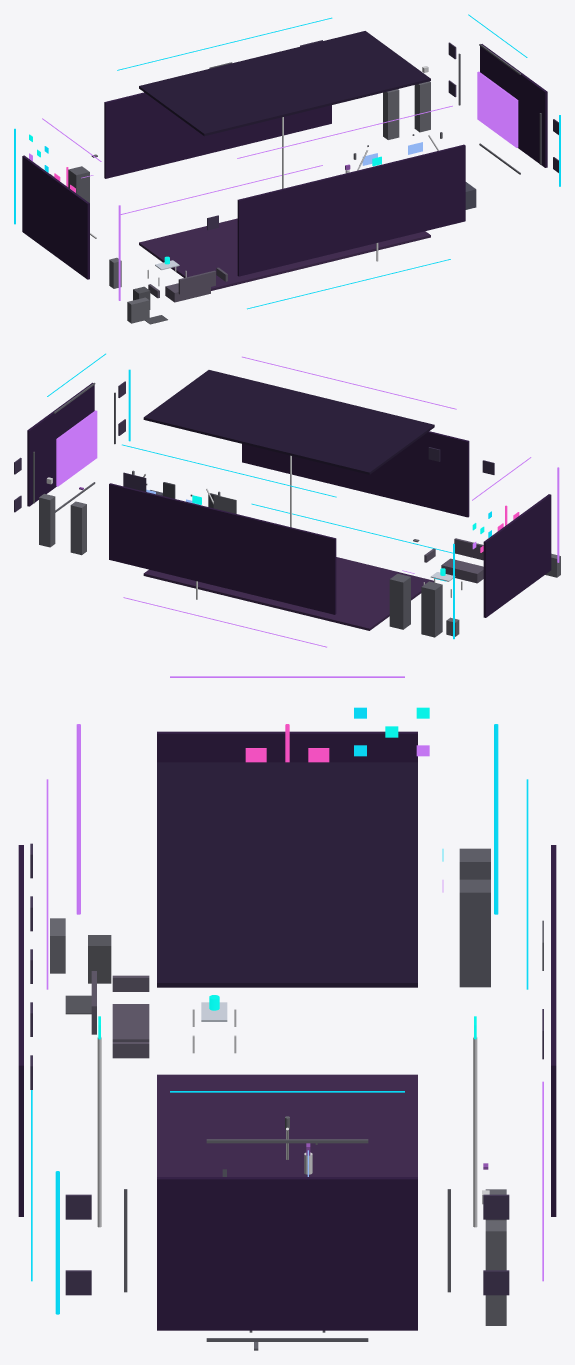
3 views of the same model, one above another, from view 1: azimuth 30°, elevation 25°; view 2: azimuth 150°, elevation 25°; view 3: azimuth 270°, elevation 25° (orthographic). The views are drawn at different scales.
Parts seen in each view (by area): view 1: Wall_South, Ceiling, Wall_North, Floor, Wall_West, Wall_East, LEDScreen, StorageShelf1, StorageShelf2, Sofa_Back, ServerRack2, ShoeRack (+1 smaller); view 2: Wall_North, Ceiling, Wall_South, Wall_West, Floor, Wall_East, LEDScreen, ServerRack2, ServerRack1, StorageShelf1, StorageShelf2, Sofa_Base (+1 smaller); view 3: Ceiling, Wall_East, Floor, Wall_West, ServerRack2, Wall_North, Wall_South, StorageShelf1, Sofa_Base, MiniFridge, ServerRack1, RGBTube1 (+5 smaller).
Part boxes in pixels (bbox=[...]): Wall_South: bbox=[237, 144, 465, 276]; Ceiling: bbox=[139, 31, 430, 136]; Wall_North: bbox=[104, 92, 331, 178]; Floor: bbox=[139, 218, 430, 290]; Wall_West: bbox=[22, 155, 89, 279]; Wall_East: bbox=[480, 44, 547, 167]; LEDScreen: bbox=[477, 71, 518, 147]; StorageShelf1: bbox=[414, 81, 430, 132]; StorageShelf2: bbox=[383, 89, 399, 139]; Sofa_Back: bbox=[178, 270, 215, 294]; ServerRack2: bbox=[68, 166, 89, 202]; ShoeRack: bbox=[127, 297, 149, 323]; Wall_North: bbox=[109, 483, 336, 614]; Ceiling: bbox=[143, 370, 434, 474]; Wall_South: bbox=[242, 431, 469, 517]; Wall_West: bbox=[483, 494, 551, 617]; Floor: bbox=[143, 557, 433, 630]; Wall_East: bbox=[27, 382, 94, 506]; LEDScreen: bbox=[56, 410, 97, 486]; ServerRack2: bbox=[389, 573, 410, 629]; ServerRack1: bbox=[421, 581, 442, 637]; StorageShelf1: bbox=[39, 493, 55, 547]; StorageShelf2: bbox=[70, 501, 86, 555]; Sofa_Base: bbox=[441, 558, 483, 583]; Ceiling: bbox=[157, 762, 417, 987]; Wall_East: bbox=[157, 1177, 417, 1330]; Floor: bbox=[157, 1074, 417, 1176]; Wall_West: bbox=[157, 731, 417, 762]; ServerRack2: bbox=[459, 879, 490, 987]; Wall_North: bbox=[551, 845, 556, 1216]; Wall_South: bbox=[18, 845, 23, 1216]; StorageShelf1: bbox=[485, 1220, 506, 1325]; Sofa_Base: bbox=[112, 1004, 149, 1041]; MiniFridge: bbox=[88, 935, 111, 983]; ServerRack1: bbox=[459, 848, 490, 879]; RGBTube1: bbox=[76, 724, 80, 914].
Size of the model in its own units: 10.15 by 3.35 by 5.15.
